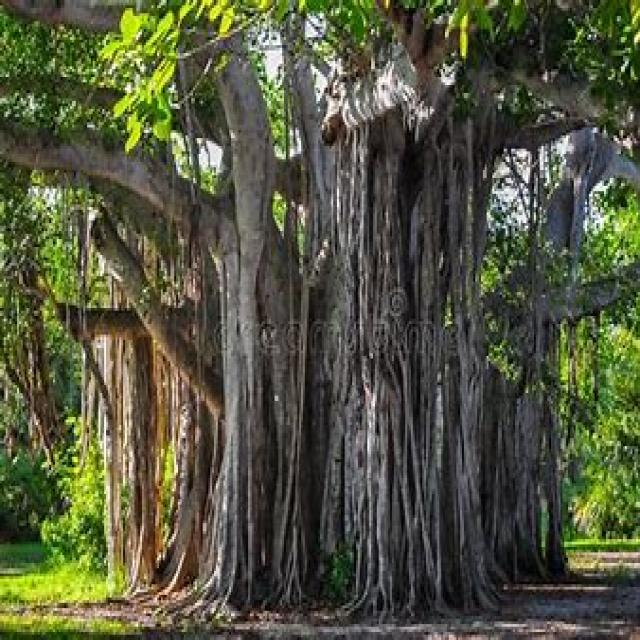Banyan-Tree: (0, 0, 640, 638), (87, 90, 619, 616)
